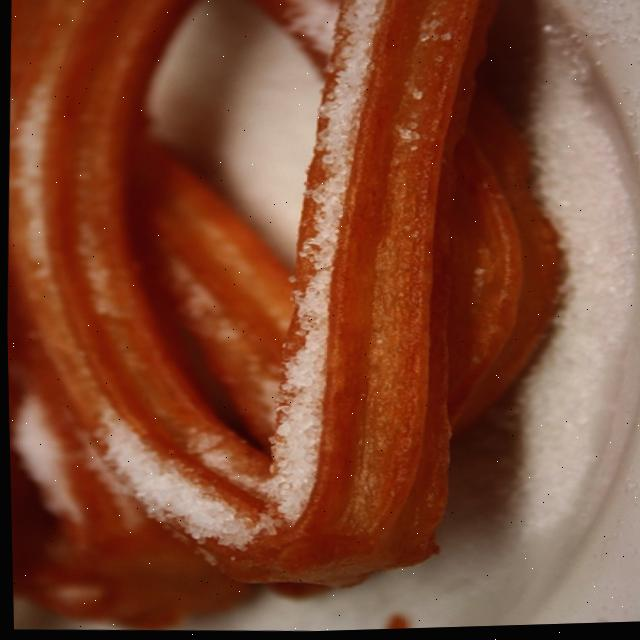炸货点心: (15, 0, 581, 614)
